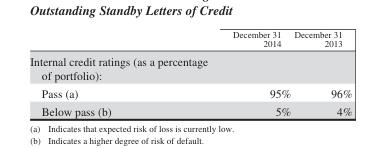table: (29, 29, 351, 117)
table column: (29, 29, 171, 117), (171, 29, 291, 117), (291, 29, 351, 117)
table column header: (29, 29, 351, 51)
table projected row header: (29, 51, 351, 83)
table row: (29, 51, 351, 83), (29, 29, 351, 51), (29, 83, 351, 101), (29, 101, 351, 117)
